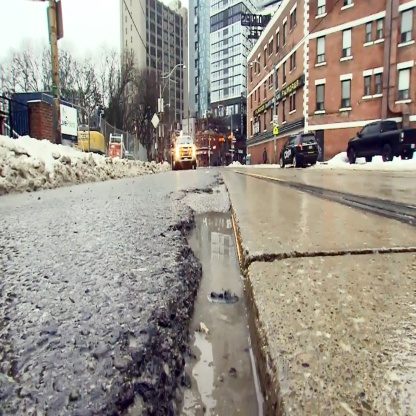pothole: (95, 171, 296, 413)
